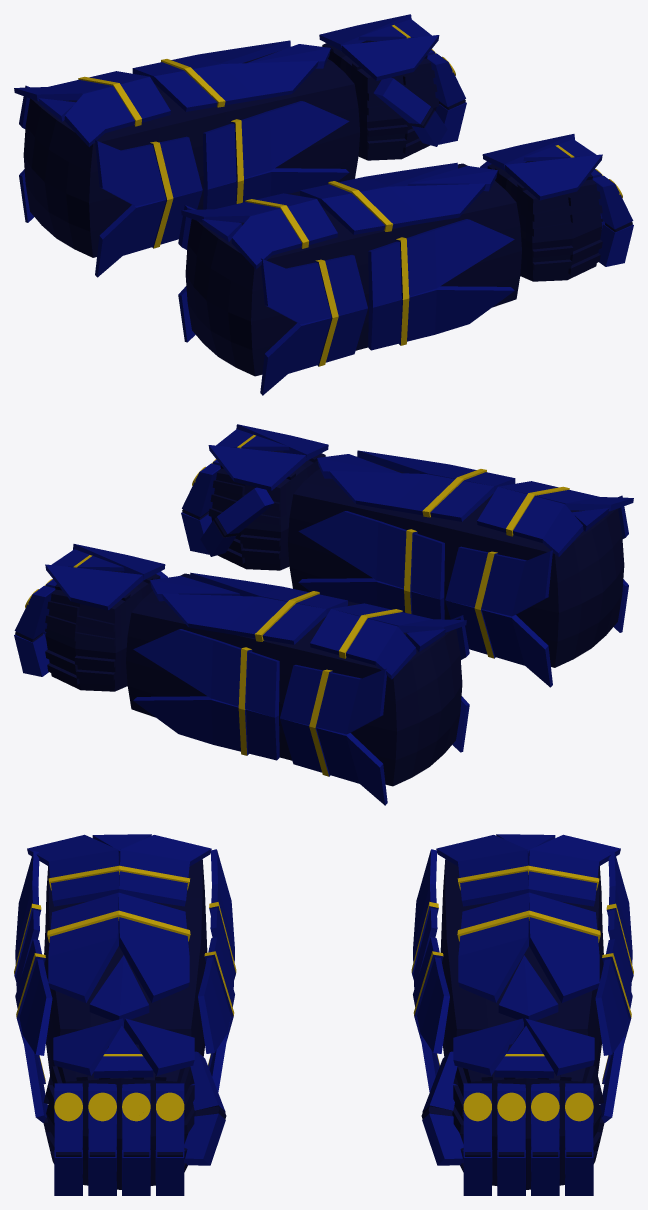
File: hands.fbx
3 renders of one model, top to bottom at view 1: azimuth 30°, elevation 25°; view 2: azimuth 150°, elevation 25°; view 3: azimuth 270°, elevation 25°, orthographic. The views are drawn at different scales.
Parts seen in each view (by area): view 1: right_hand, left_hand; view 2: left_hand, right_hand; view 3: left_hand, right_hand.
Part boxes in pixels (x1=…): right_hand: x1=178, y1=134, x2=633, y2=395; left_hand: x1=14, y1=14, x2=466, y2=277; left_hand: x1=14, y1=544, x2=469, y2=805; right_hand: x1=181, y1=424, x2=633, y2=687; left_hand: x1=411, y1=834, x2=633, y2=1195; right_hand: x1=14, y1=834, x2=236, y2=1195.
Size of the model in its own units: 176 by 63.64 by 194.
